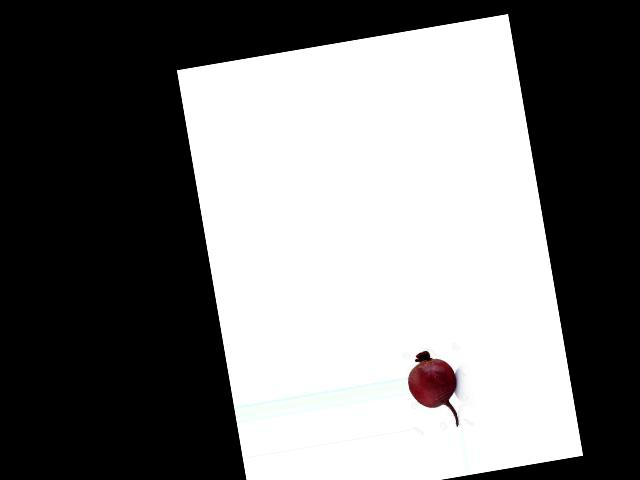beet: (404, 347, 464, 433)
